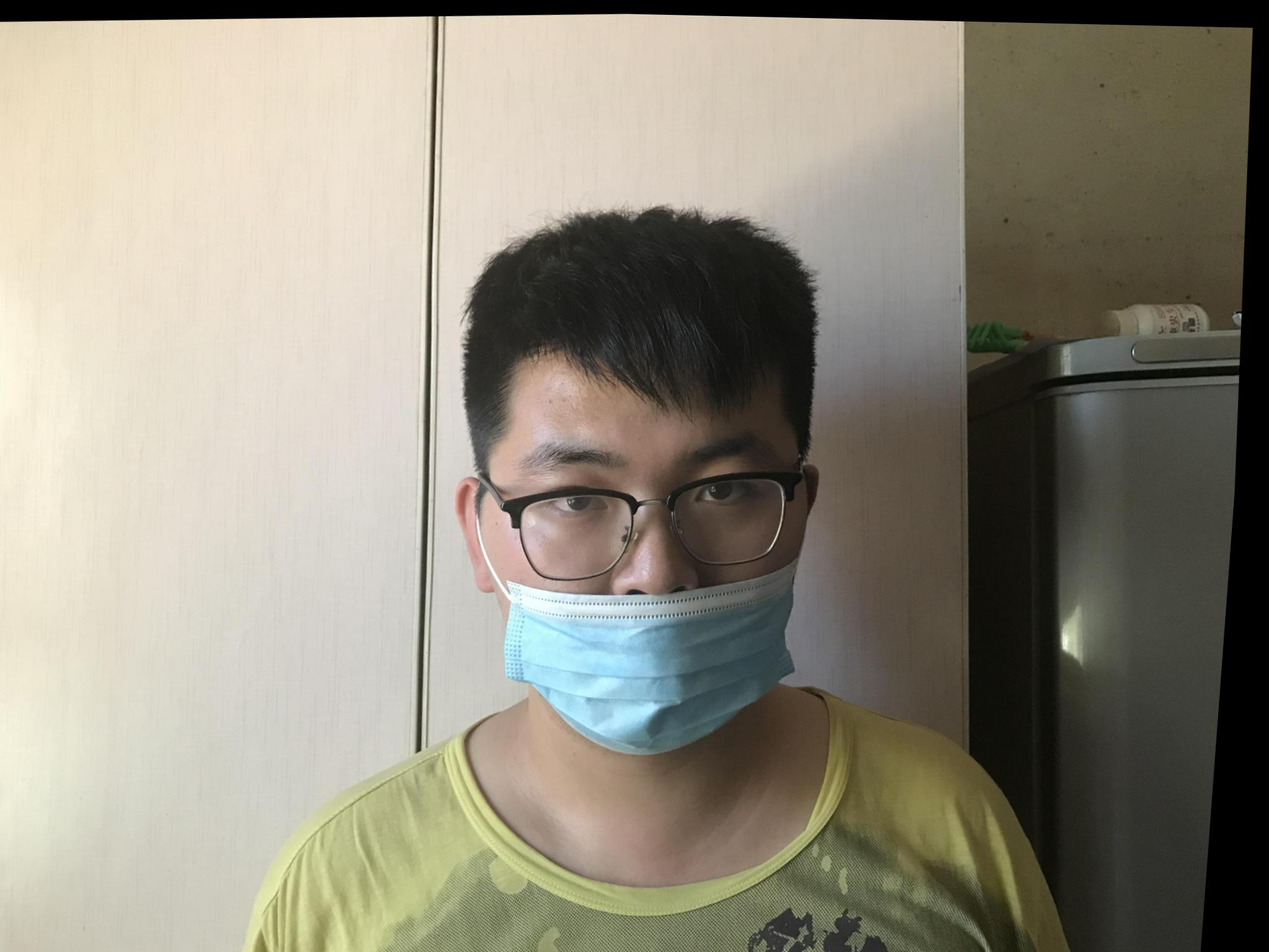WRONG: (490, 378, 831, 757)
